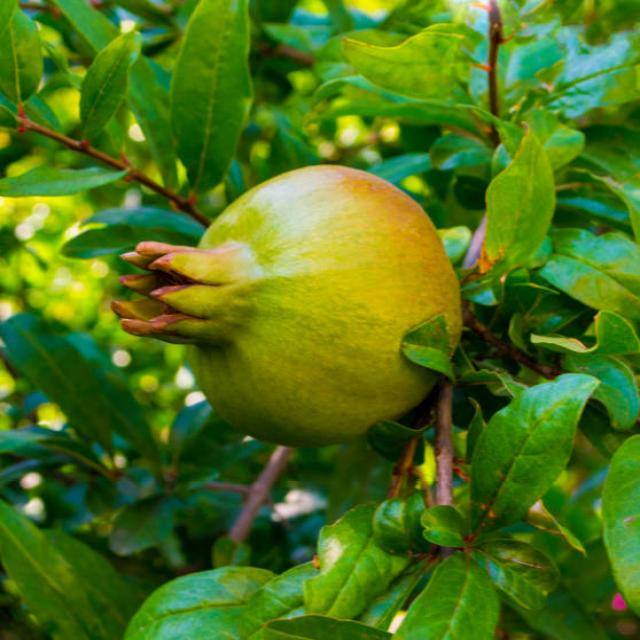Unripe: (109, 166, 461, 449)
